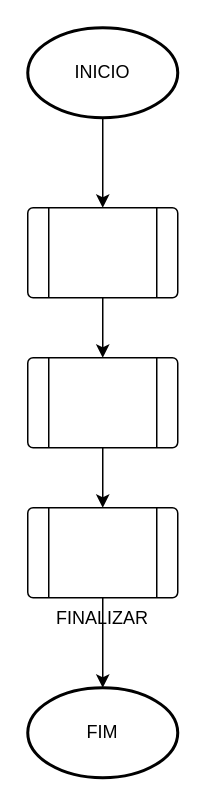
Some shapes in this 204 by 804 pixel diagram are drawn without their labels. Each missing label, with the centre of its shape:
INICIALIZAR: point (102, 252)
PROCESSAR: point (102, 402)
